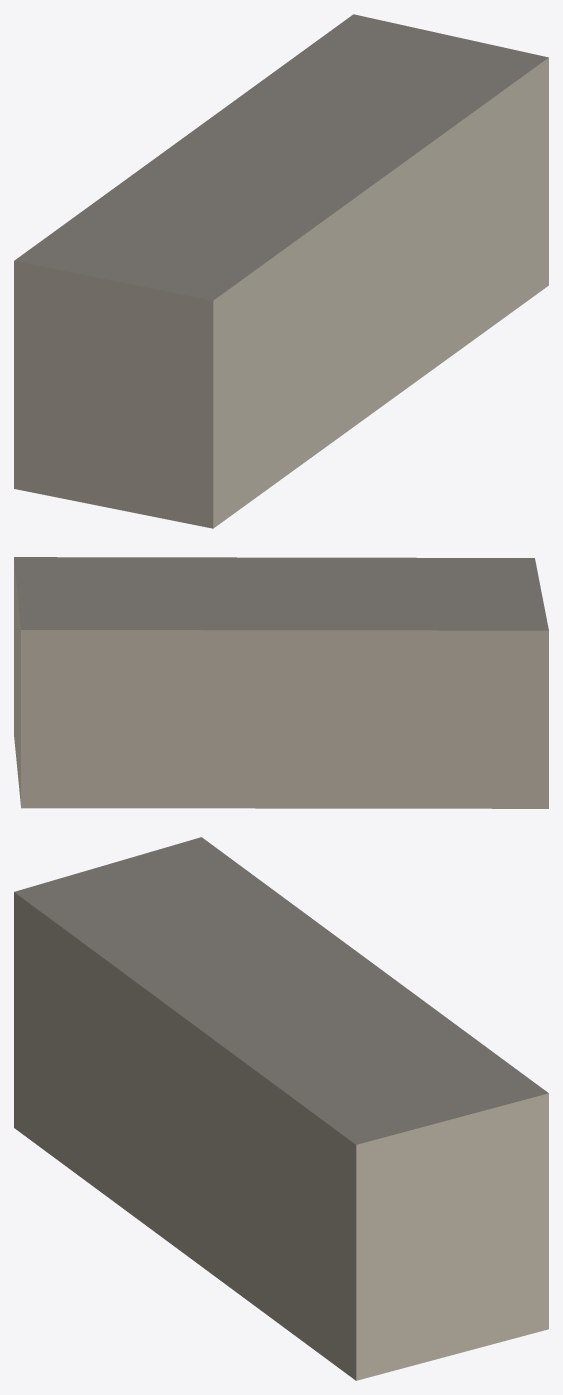
3 views of the same model, one above another, from view 1: azimuth 30°, elevation 25°; view 2: azimuth 150°, elevation 25°; view 3: azimuth 270°, elevation 25° (orthographic). The views are drawn at different scales.
Visible parts, largest first — view 1: HP-w505633404; view 2: HP-w505633404; view 3: HP-w505633404.
Boxes of the visible parts, x1,y1,x2,y2 form: HP-w505633404: [14, 14, 548, 528]; HP-w505633404: [14, 557, 548, 808]; HP-w505633404: [14, 837, 548, 1380].
Size of the model in its own units: 41.97 by 15 by 30.82.
